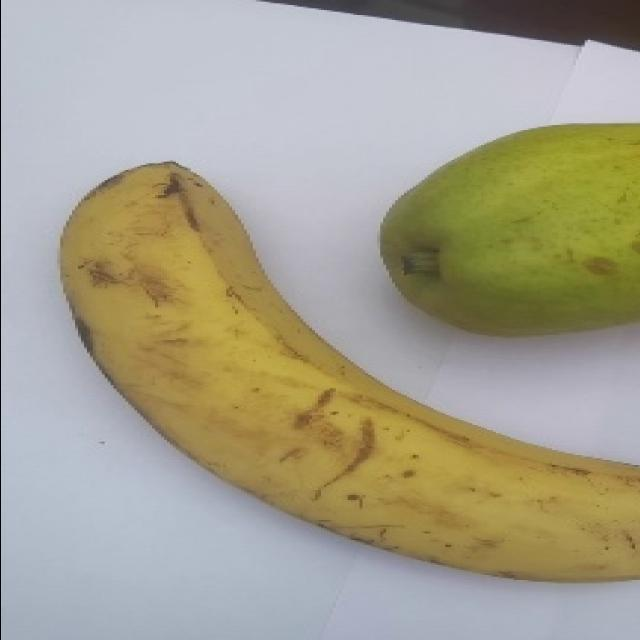Banana: (58, 155, 640, 581)
